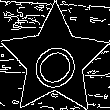O_NE: (23, 28, 87, 93)
